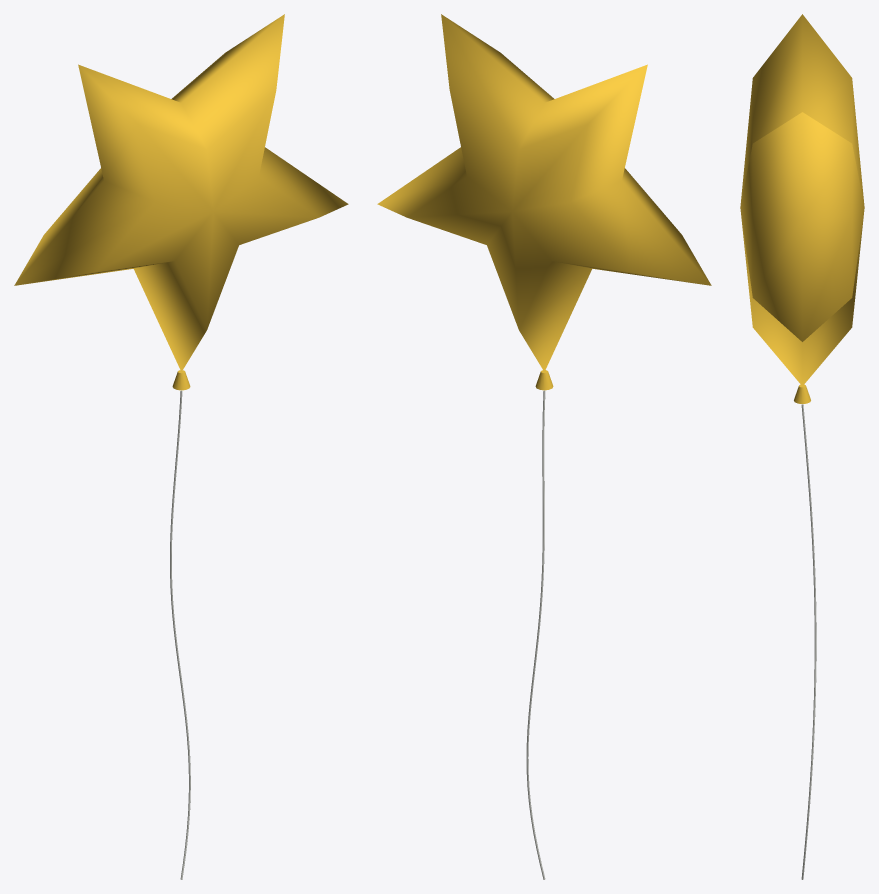
Rendered from balloon_star_gold.glb.
The picture shows the model from 3 angles, left to right: view 1: azimuth 30°, elevation 25°; view 2: azimuth 150°, elevation 25°; view 3: azimuth 270°, elevation 25°; orthographic projection. The views are drawn at different scales.
Parts seen in each view (by area): view 1: Five point star balloon, Trailing string; view 2: Five point star balloon, Trailing string; view 3: Five point star balloon, Trailing string.
Boxes of the visible parts, <box> form: Five point star balloon: <box>14,14,348,371</box>; Trailing string: <box>170,390,190,879</box>; Five point star balloon: <box>377,14,711,371</box>; Trailing string: <box>526,390,545,879</box>; Five point star balloon: <box>740,14,864,385</box>; Trailing string: <box>801,404,816,879</box>.
Size of the model in its own units: 0.5136 by 1.23 by 0.17.
